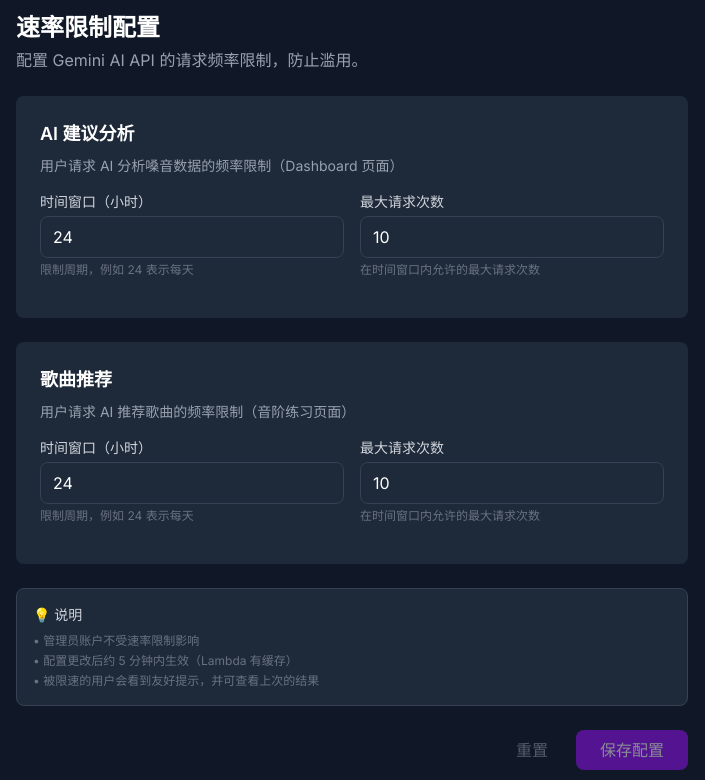
Test case: RateLimitConfigPage 组件测试 › 错误处理 › 应该显示保存错误
This screenshot has width=705, height=780.
Check: the heading "速率限制配置" is shown, box [16,13,160,42]
// 修改配置以启用保存按钮
Replace the text in the number field labelled "时间窗口（小时）" below "用户请求 AI 分析嗓音数据的频率限制（Dashboard 页面）" with "48": (192, 237) [40,216,344,258]
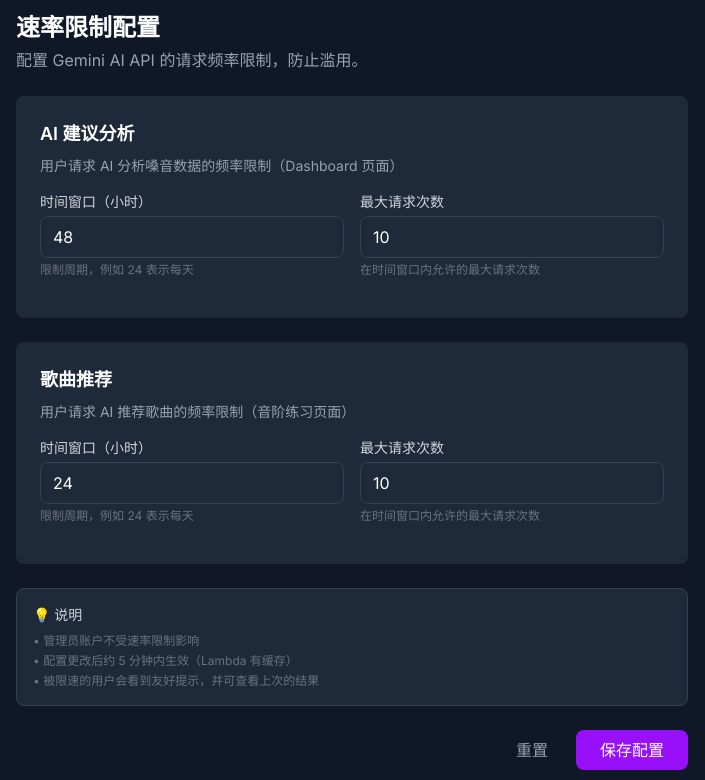
Click the button "保存配置": (632, 750) [576,730,688,770]
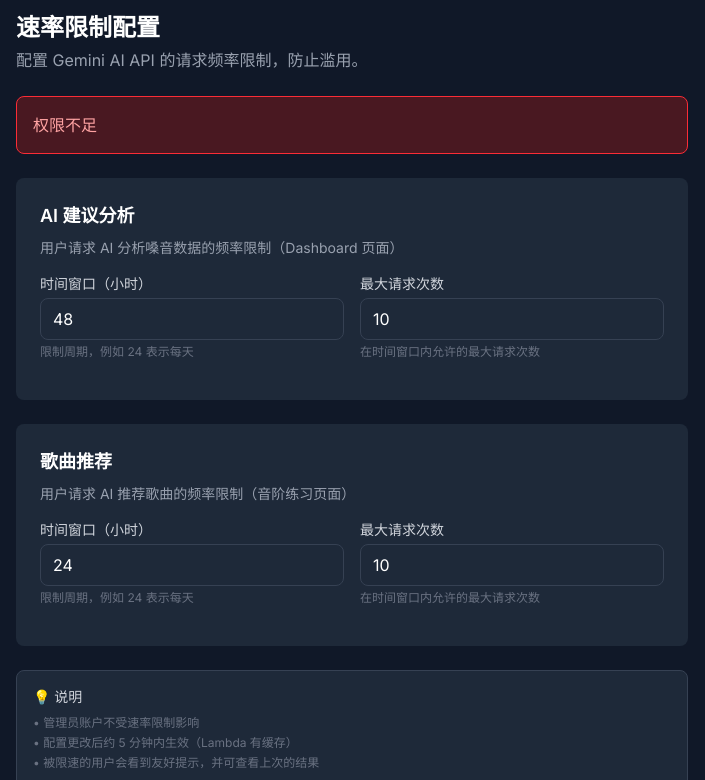
Check: the text "权限不足" is shown, box [33,115,97,135]
